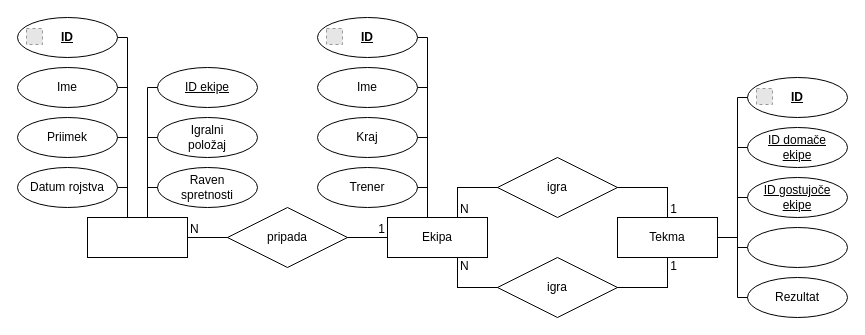
This 865x335 diagram has some shape labels left out. Grey dashed boxes stand in for pictures. The shapes that lost their labels are listed below. From the top down, each one's centre as x and y in pixels, then its label:
the point at 137,237: Igralec
the point at 797,247: Datum
